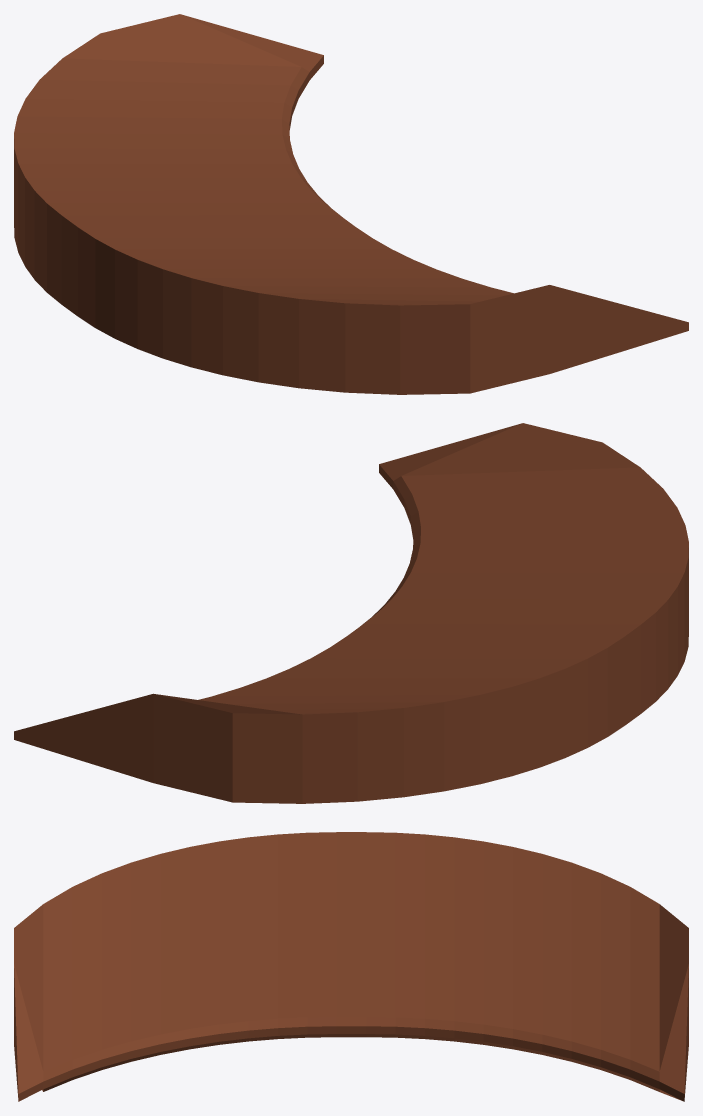
File: big balcony.fbx
3 renders of one model, top to bottom at view 1: azimuth 30°, elevation 25°; view 2: azimuth 150°, elevation 25°; view 3: azimuth 270°, elevation 25°, orthographic. The views are drawn at different scales.
Parts seen in each view (by area): view 1: Cube; view 2: Cube; view 3: Cube.
Boxes of the visible parts, x1,y1,x2,y2 form: Cube: (14,14,688,394); Cube: (14,423,688,803); Cube: (14,832,688,1101).
Size of the model in its own units: 4090 by 800 by 6000.
